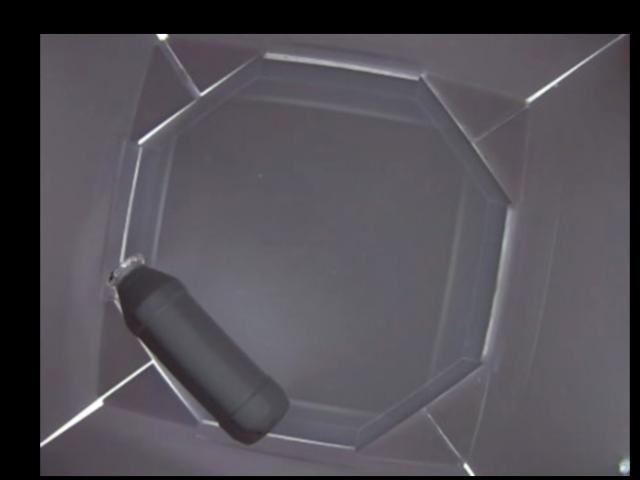Bottle: (104, 254, 288, 443)
